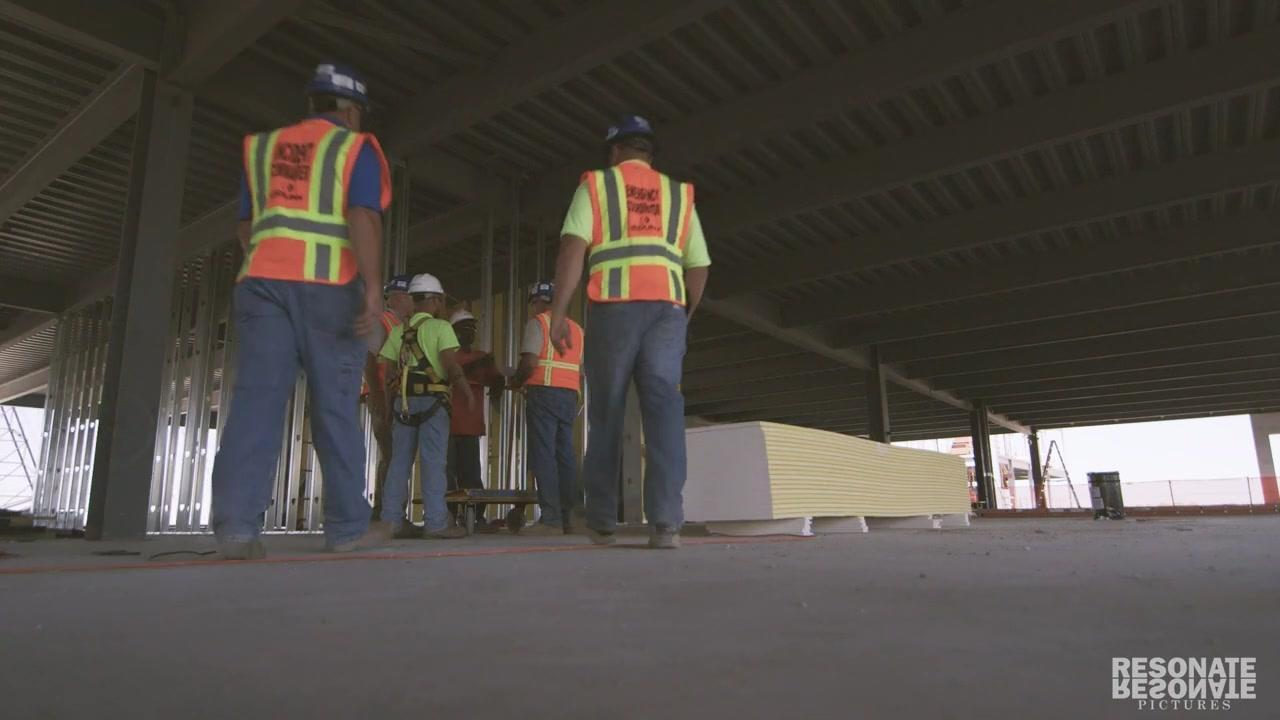vest: (241, 117, 392, 286), (581, 159, 695, 307), (519, 314, 583, 391), (363, 309, 405, 394)
